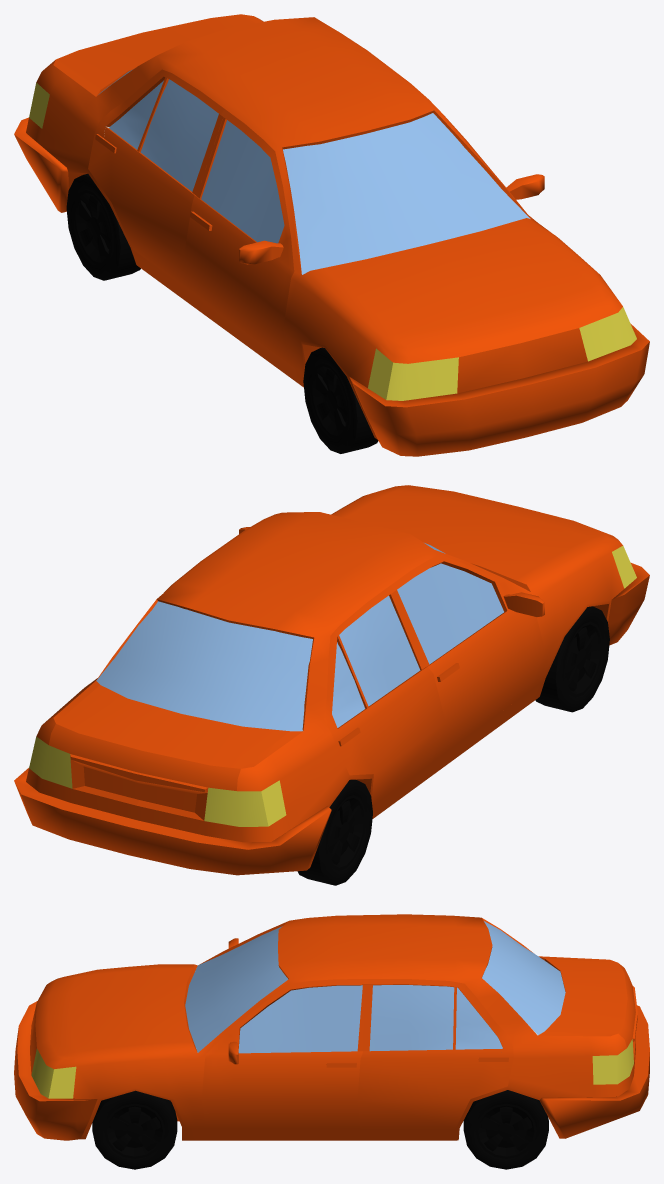
File: car4.glb
3 views of the same model, one above another, from view 1: azimuth 30°, elevation 25°; view 2: azimuth 150°, elevation 25°; view 3: azimuth 270°, elevation 25° (orthographic). The views are drawn at different scales.
Parts seen in each view (by area): view 1: Cube.022, window, window.002, window.001, wheel.003, wheel.002; view 2: Cube.022, window, window.002, window.001, wheel.003, wheel.002; view 3: Cube.022, window, window.002, window.001, wheel.001, wheel.
Part boxes in pixels (x1,y1,x2,y2): Cube.022: [14, 14, 649, 456]; window: [98, 70, 530, 274]; window.002: [109, 79, 218, 191]; window.001: [201, 120, 284, 243]; wheel.003: [303, 347, 378, 453]; wheel.002: [66, 173, 140, 280]; Cube.022: [14, 485, 649, 875]; window: [96, 543, 445, 731]; window.002: [332, 595, 420, 727]; window.001: [397, 563, 503, 664]; wheel.003: [535, 606, 609, 712]; wheel.002: [297, 779, 372, 885]; Cube.022: [14, 914, 649, 1140]; window: [185, 921, 565, 1052]; window.002: [369, 985, 502, 1051]; window.001: [238, 985, 362, 1053]; wheel.001: [92, 1090, 177, 1169]; wheel: [463, 1090, 548, 1169].
Size of the model in its own units: 1.92 by 1.38 by 4.43.
